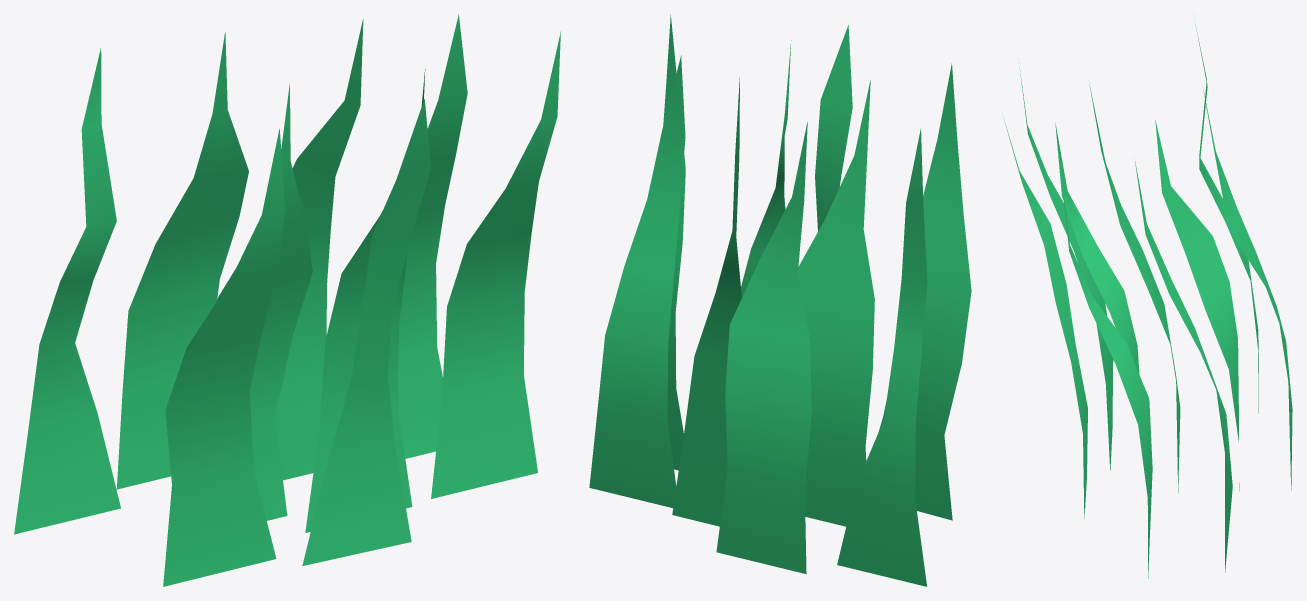
The model's file is grama.fbx.
3 renders of one model, left to right at view 1: azimuth 30°, elevation 25°; view 2: azimuth 150°, elevation 25°; view 3: azimuth 270°, elevation 25°, orthographic. The views are drawn at different scales.
Visible parts, largest first — view 1: Grama; view 2: Grama; view 3: Grama.
Part boxes in pixels (<box>): Grama: <box>14,14,560,586</box>; Grama: <box>589,14,971,586</box>; Grama: <box>1003,24,1292,578</box>.
Bounding box in the file's own units: 35.96 × 38.17 × 24.53.
